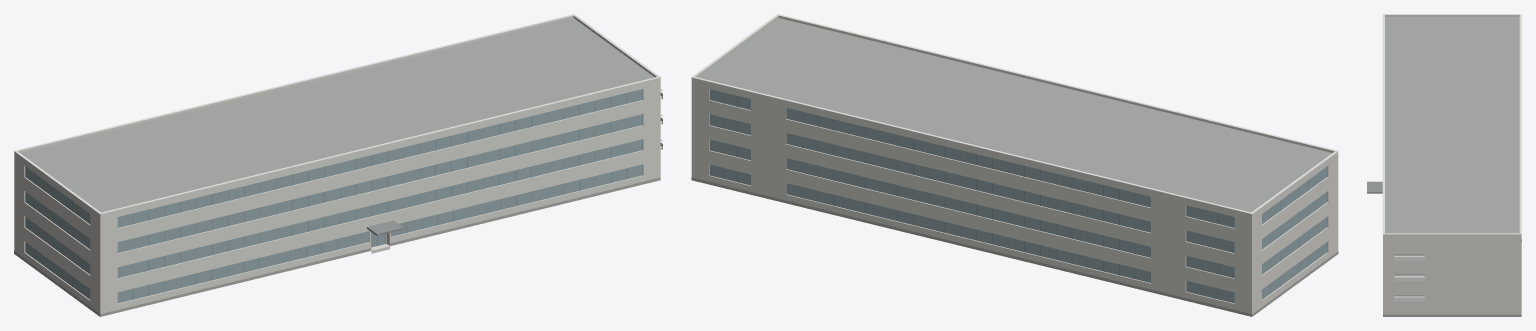
The picture shows the model from 3 angles, left to right: view 1: azimuth 30°, elevation 25°; view 2: azimuth 150°, elevation 25°; view 3: azimuth 270°, elevation 25°; orthographic projection. The views are drawn at different scales.
Parts seen in each view (by area): view 1: b115951770__roof, b115951770__wall, b115951770__glass, b115951770__parapet, b115951770__trim, b115951770__base, b115951770__frame; view 2: b115951770__roof, b115951770__wall, b115951770__glass, b115951770__parapet, b115951770__trim, b115951770__base, b115951770__frame; view 3: b115951770__roof, b115951770__wall, b115951770__trim, b115951770__parapet, b115951770__base, b115951770__canopy.
Part boxes in pixels (x1,y1,x2,y2): b115951770__roof: [20, 18, 654, 212]; b115951770__wall: [14, 79, 660, 316]; b115951770__glass: [25, 89, 642, 303]; b115951770__parapet: [14, 15, 660, 216]; b115951770__trim: [14, 14, 662, 214]; b115951770__base: [14, 177, 660, 316]; b115951770__frame: [34, 90, 662, 299]; b115951770__roof: [697, 18, 1331, 212]; b115951770__wall: [691, 79, 1338, 316]; b115951770__glass: [709, 89, 1327, 303]; b115951770__parapet: [691, 15, 1338, 215]; b115951770__trim: [691, 14, 1338, 214]; b115951770__base: [691, 177, 1338, 316]; b115951770__frame: [723, 92, 1308, 299]; b115951770__roof: [1385, 17, 1519, 233]; b115951770__wall: [1383, 236, 1521, 314]; b115951770__trim: [1382, 14, 1521, 301]; b115951770__parapet: [1383, 15, 1521, 235]; b115951770__base: [1383, 240, 1521, 316]; b115951770__canopy: [1367, 181, 1382, 193].
Bounding box in the file's own units: 85.44 × 15.15 × 25.01.
